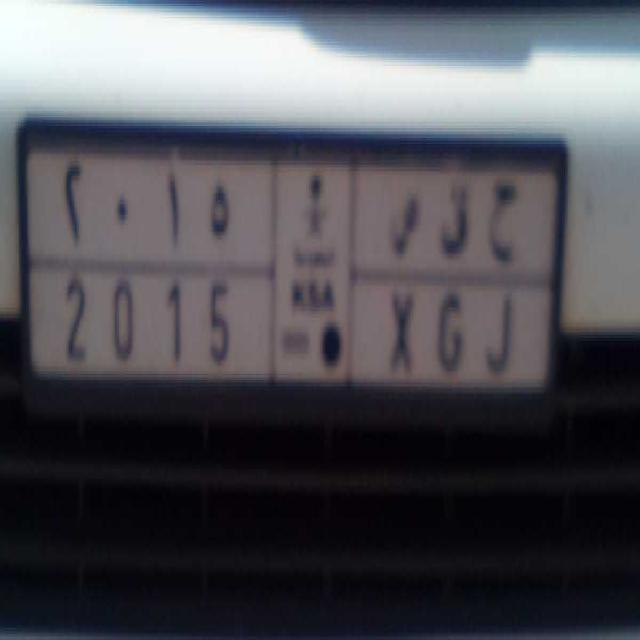license_plate: (35, 264, 545, 382)
